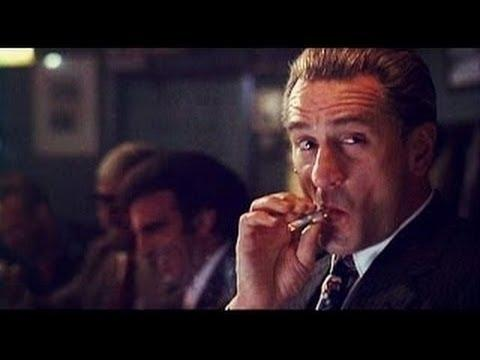cigarette: (285, 209, 332, 232)
